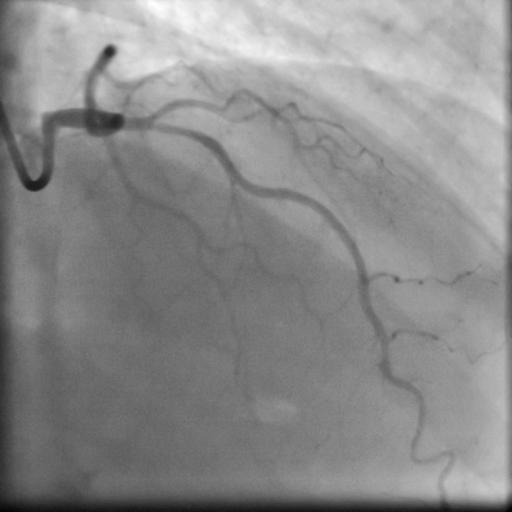Stenosis: (146, 117, 196, 137)
